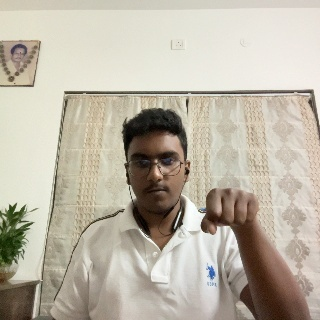Face: (124, 116, 190, 220)
Yes: (201, 178, 262, 263)
